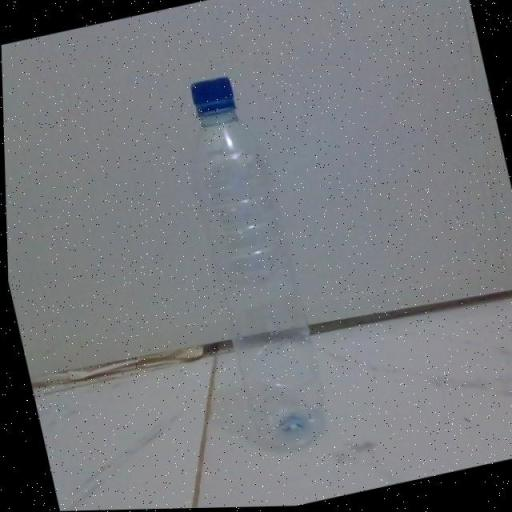plastic: (168, 66, 335, 464)
